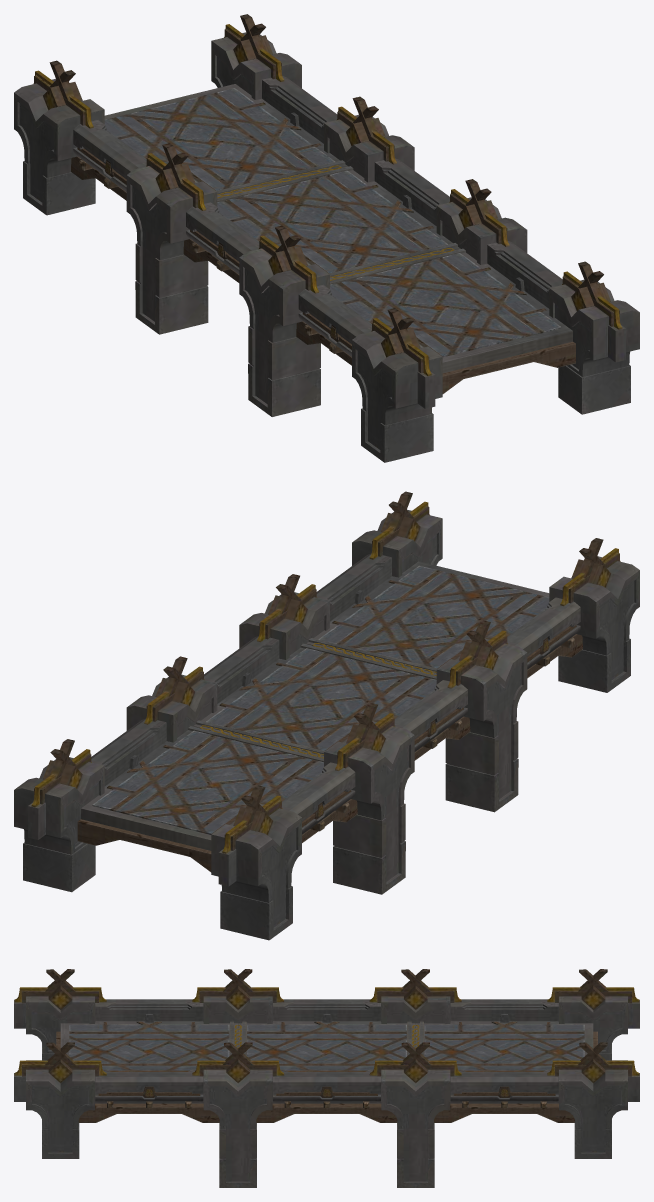
Rendered from Niflheim_Lake_Bridge.glb.
The picture shows the model from 3 angles, top to bottom: view 1: azimuth 30°, elevation 25°; view 2: azimuth 150°, elevation 25°; view 3: azimuth 270°, elevation 25°; orthographic projection. The views are drawn at different scales.
Parts seen in each view (by area): view 1: Object_5, Object_8, Object_9, Object_4, Object_7, Object_6, Object_3; view 2: Object_5, Object_8, Object_9, Object_4, Object_7, Object_6, Object_3; view 3: Object_8, Object_5, Object_9, Object_4, Object_7, Object_3, Object_6, Object_2.
Boxes of the visible parts, box(x1,y1,x2,y2) form: Object_5: box(104, 88, 561, 357); Object_8: box(14, 14, 639, 462); Object_9: box(126, 96, 527, 416); Object_4: box(73, 76, 572, 373); Object_7: box(71, 156, 575, 393); Object_6: box(216, 160, 465, 284); Object_3: box(77, 147, 351, 349); Object_5: box(92, 565, 549, 834); Object_8: box(14, 491, 639, 940); Object_9: box(126, 574, 527, 894); Object_4: box(81, 553, 580, 850); Object_7: box(77, 634, 582, 872); Object_6: box(188, 638, 437, 762); Object_3: box(302, 625, 576, 827); Object_8: box(14, 969, 639, 1158); Object_5: box(69, 1021, 584, 1071); Object_9: box(192, 969, 461, 1187); Object_4: box(60, 999, 593, 1103); Object_7: box(56, 1031, 597, 1122); Object_3: box(98, 1086, 555, 1097); Object_6: box(230, 1021, 423, 1055); Object_2: box(107, 1101, 546, 1107).
Size of the model in its own units: 31.59 by 20.68 by 88.11.
Materials: 8 (8 with a texture image).
